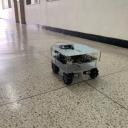cart: (50, 44, 102, 84)
